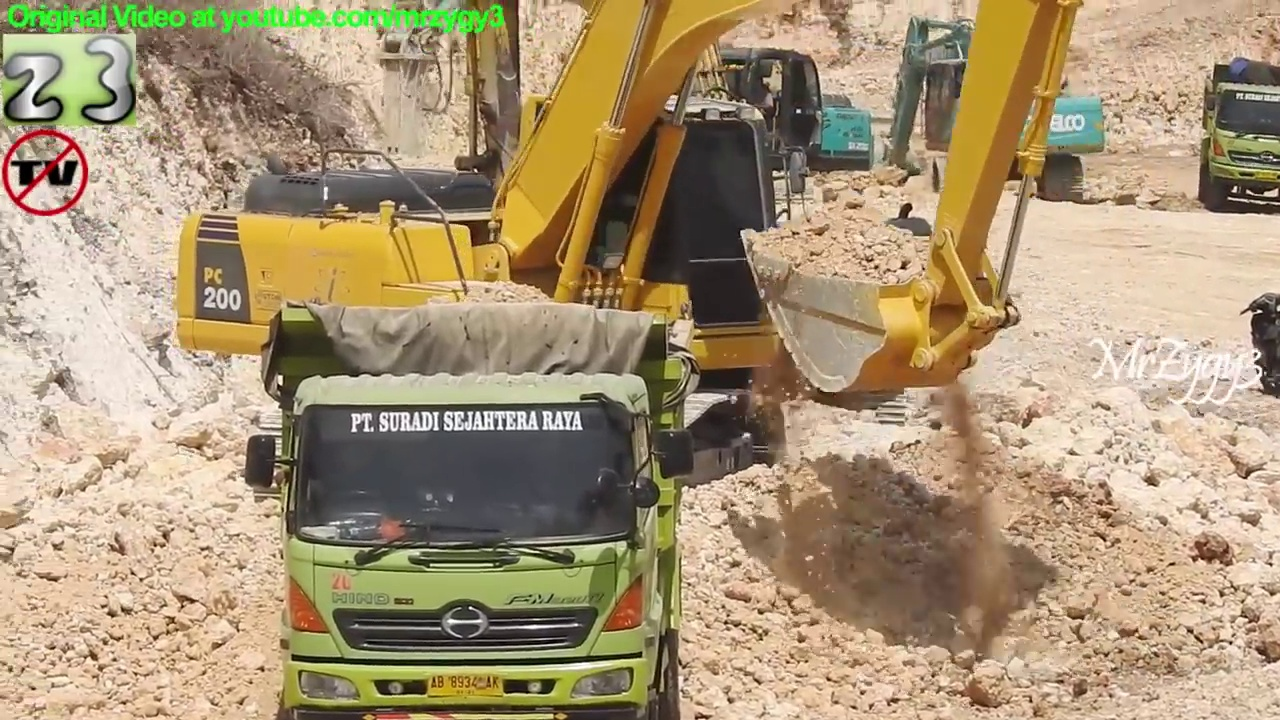excavator: (162, 1, 1098, 520), (435, 1, 957, 443), (364, 1, 881, 226), (862, 10, 1112, 210)
truck: (238, 296, 702, 720), (1193, 55, 1280, 219)
